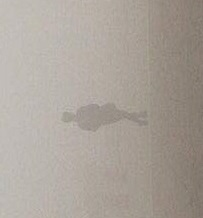person: (61, 102, 149, 131)
